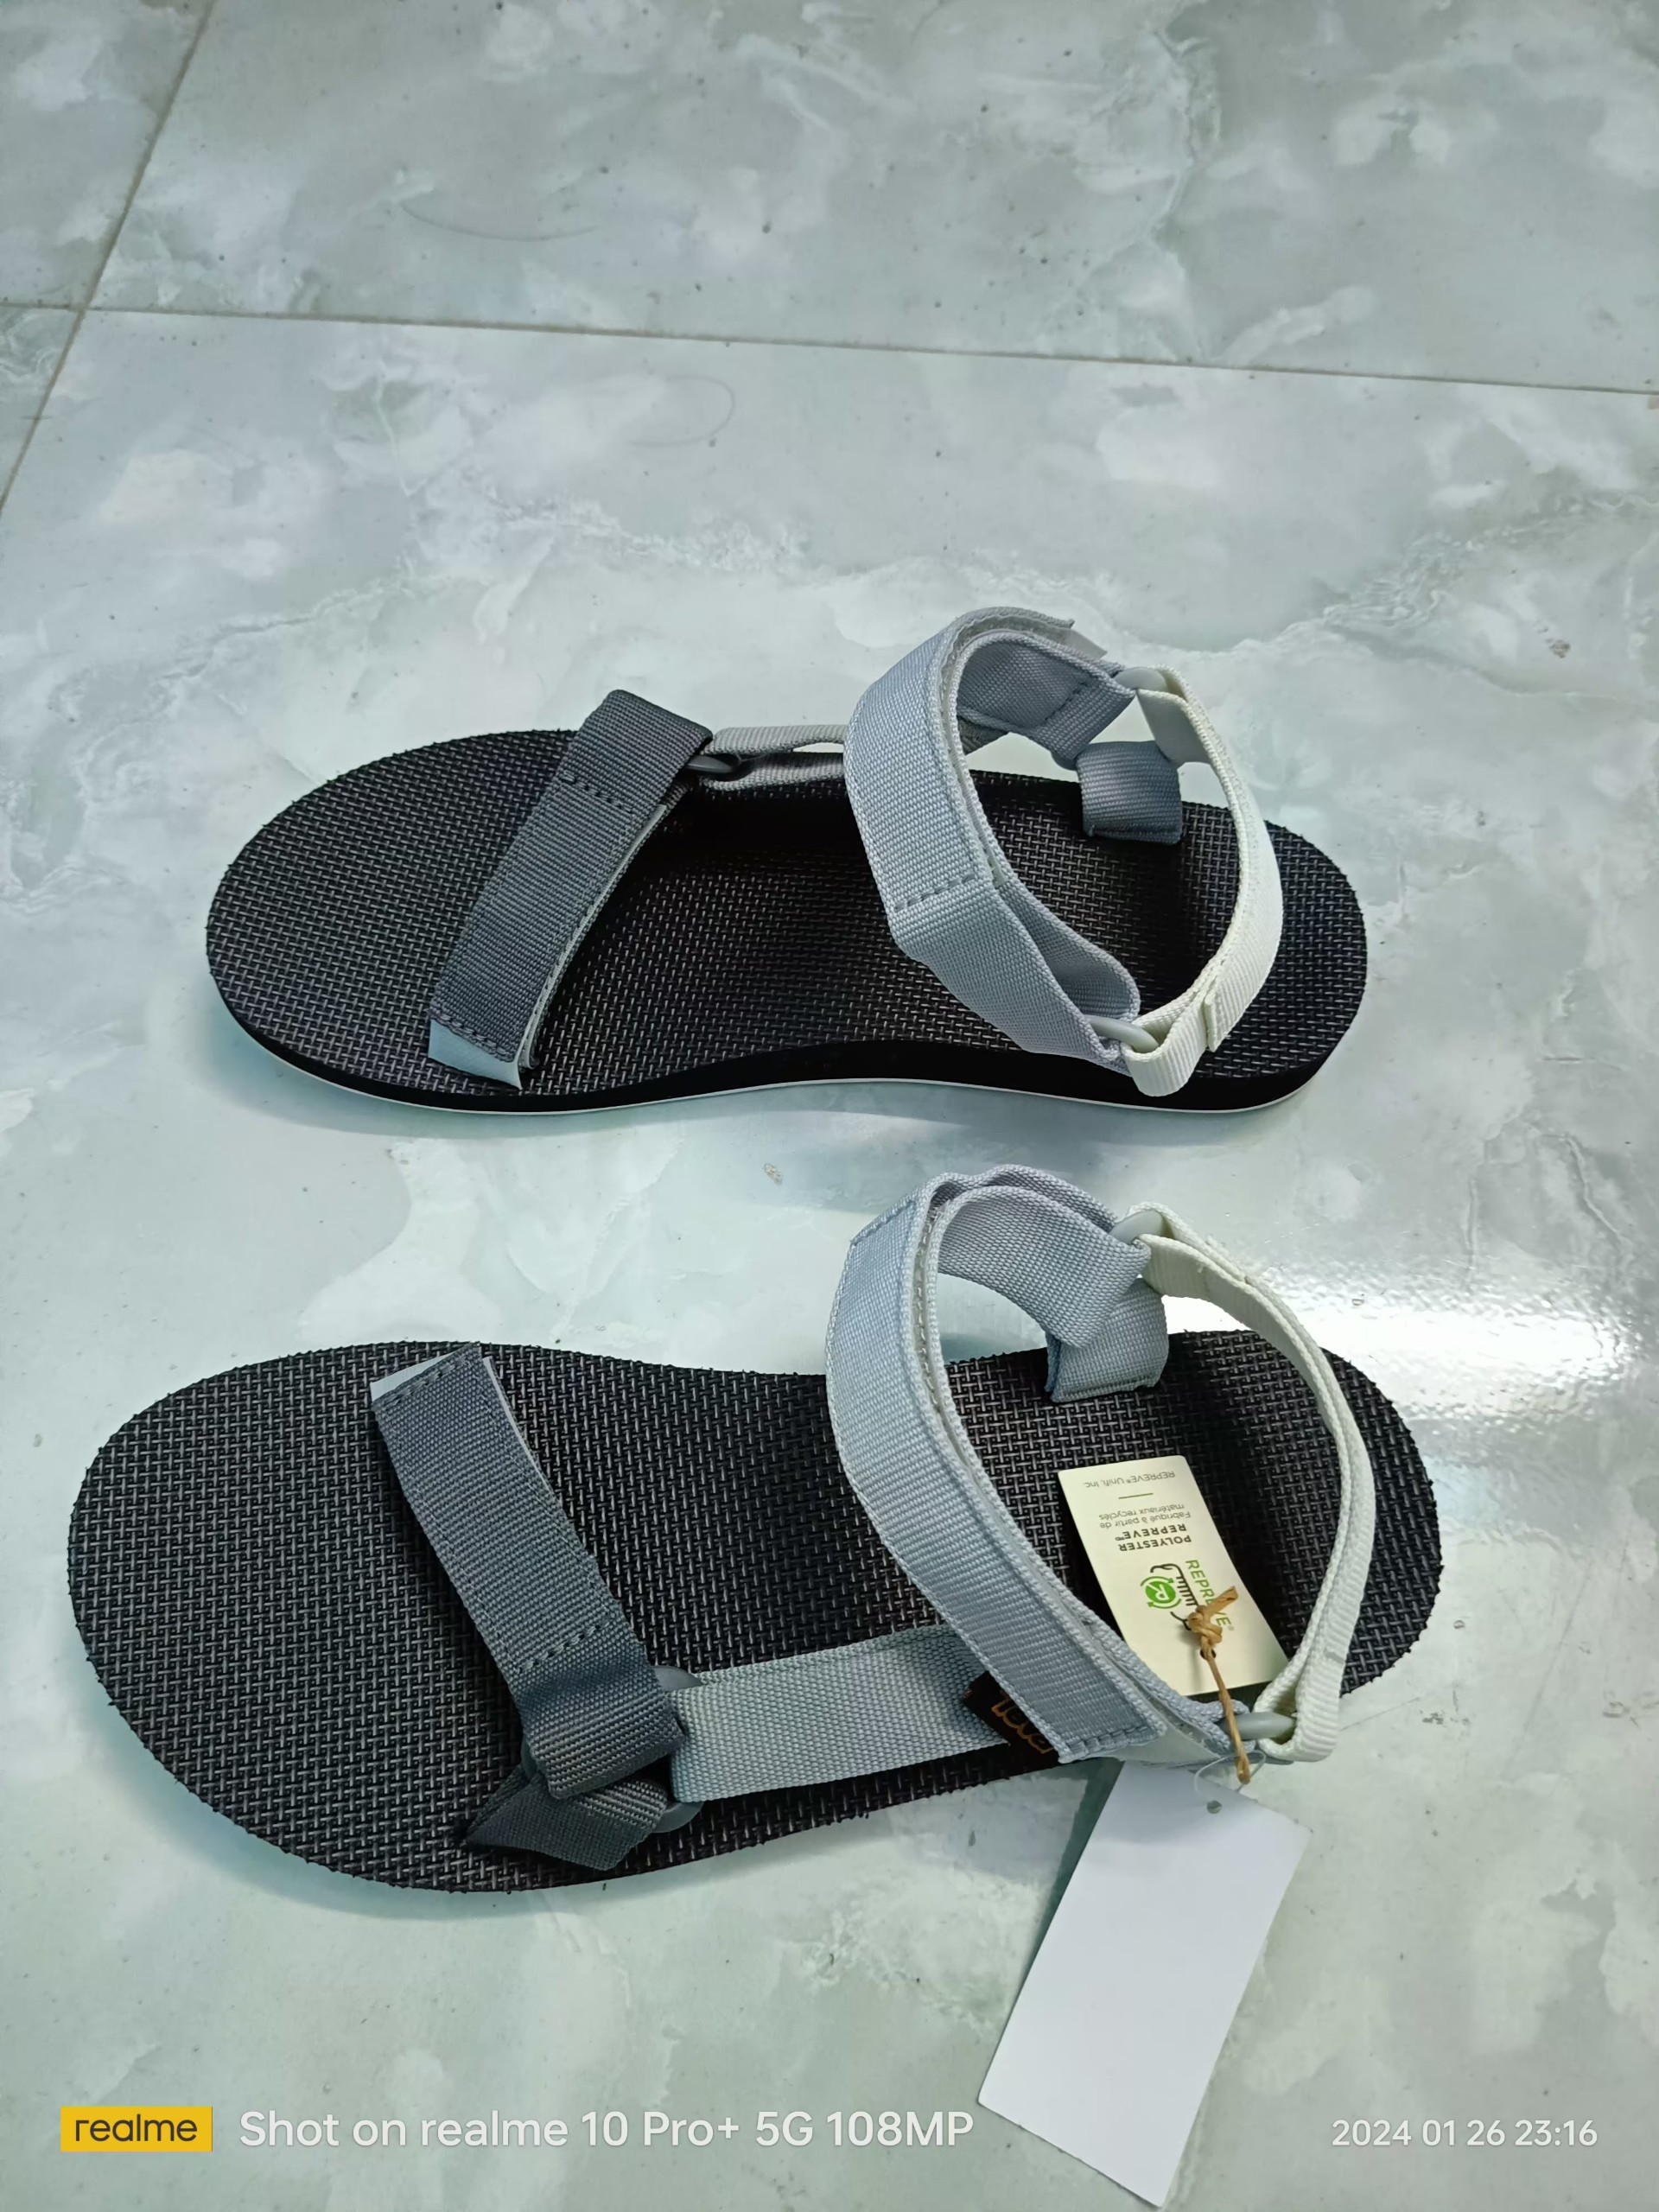sandals: (58, 1186, 1445, 1893), (206, 606, 1375, 1130)
